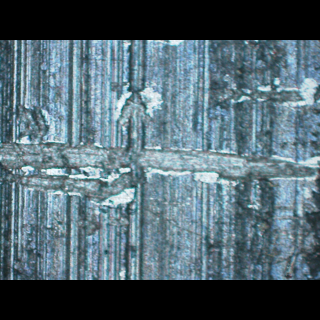d: (0, 137, 319, 208), (104, 75, 164, 127), (214, 78, 319, 104), (13, 101, 55, 143)
